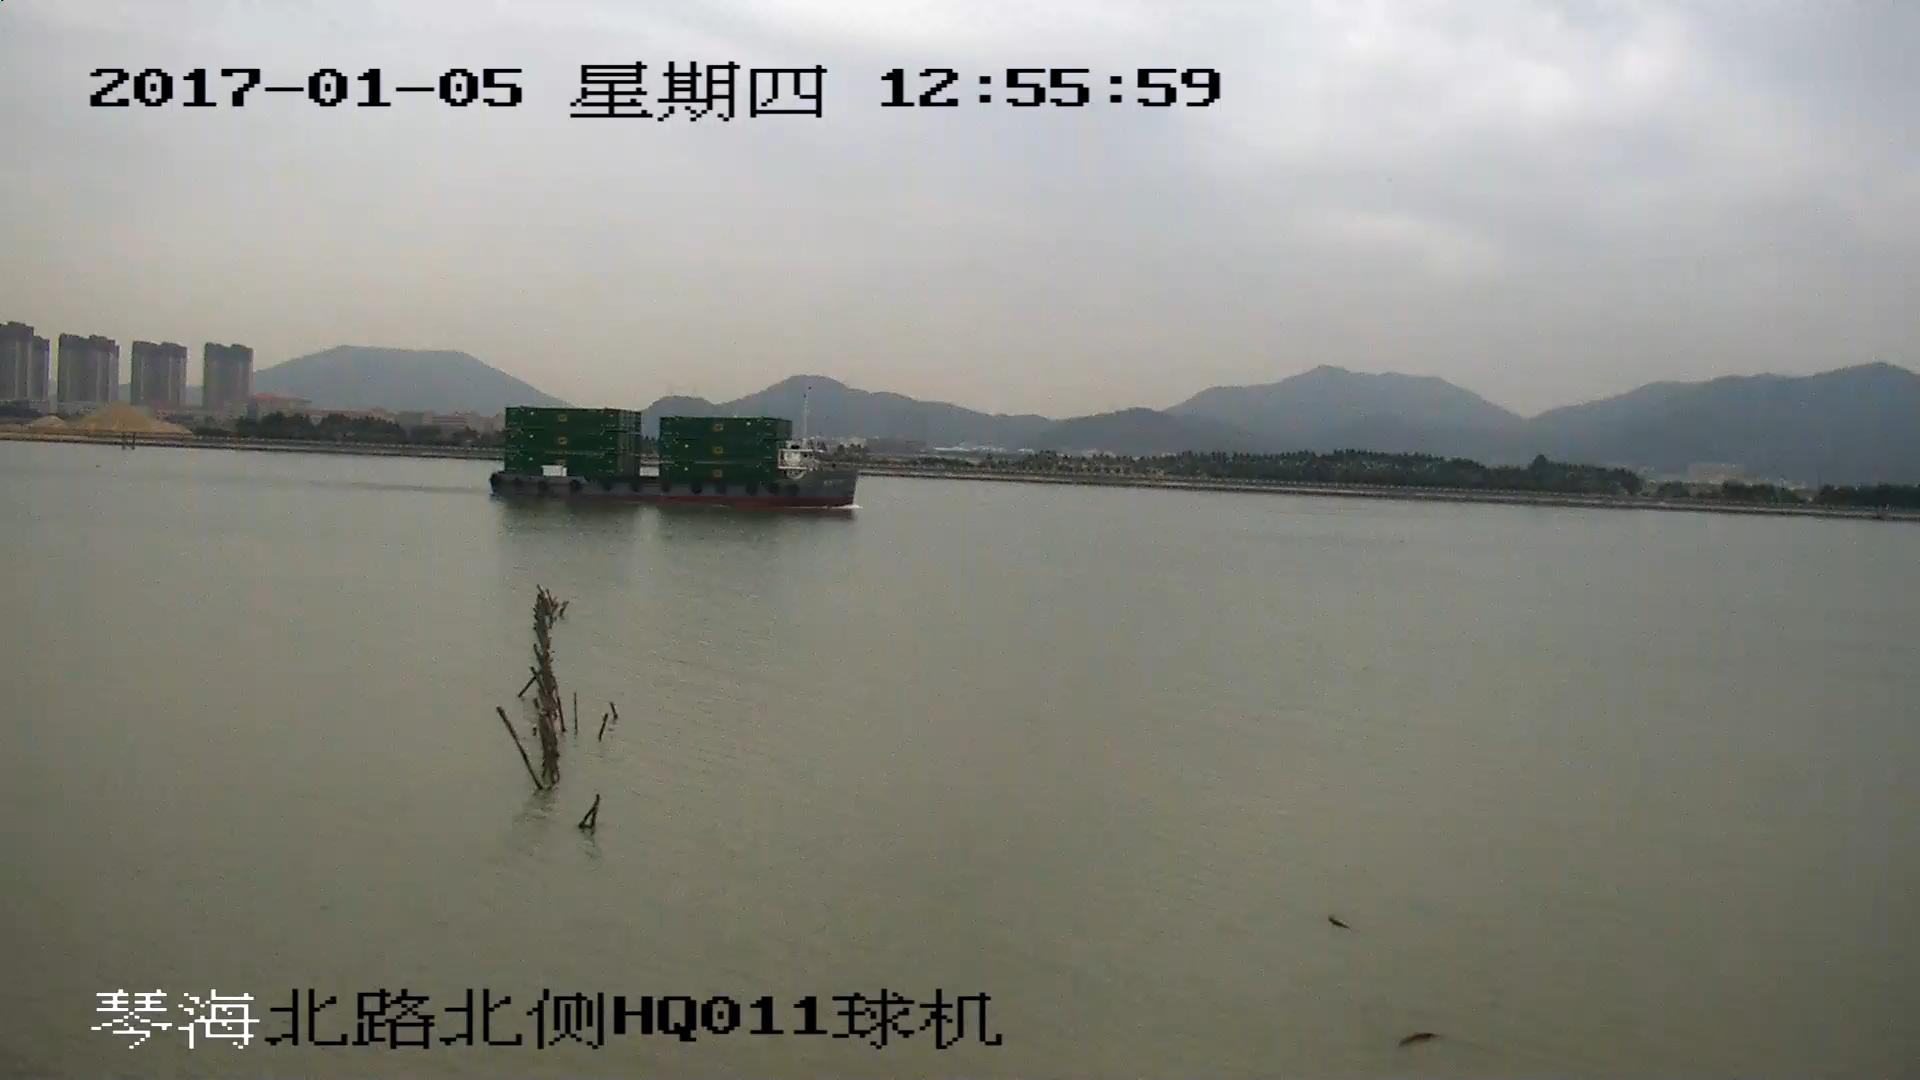container ship: (490, 405, 859, 510)
